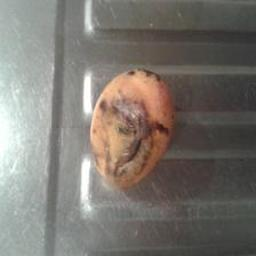Mango Rotten: (78, 52, 168, 198)
